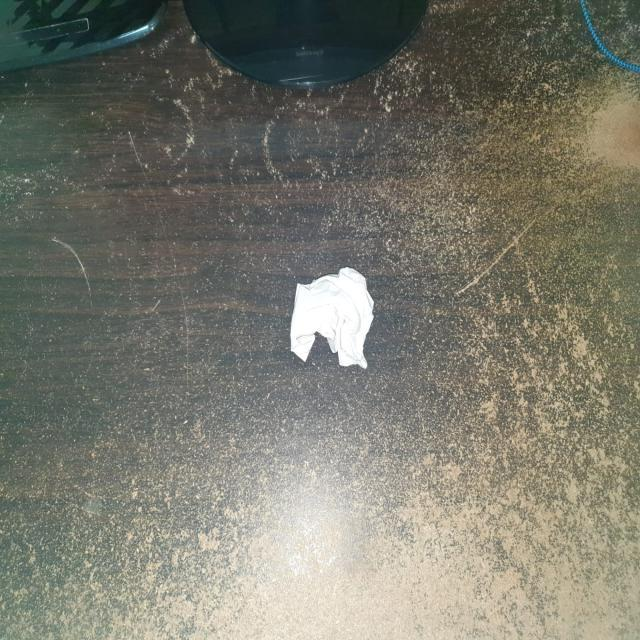Paper: (290, 265, 377, 371)
